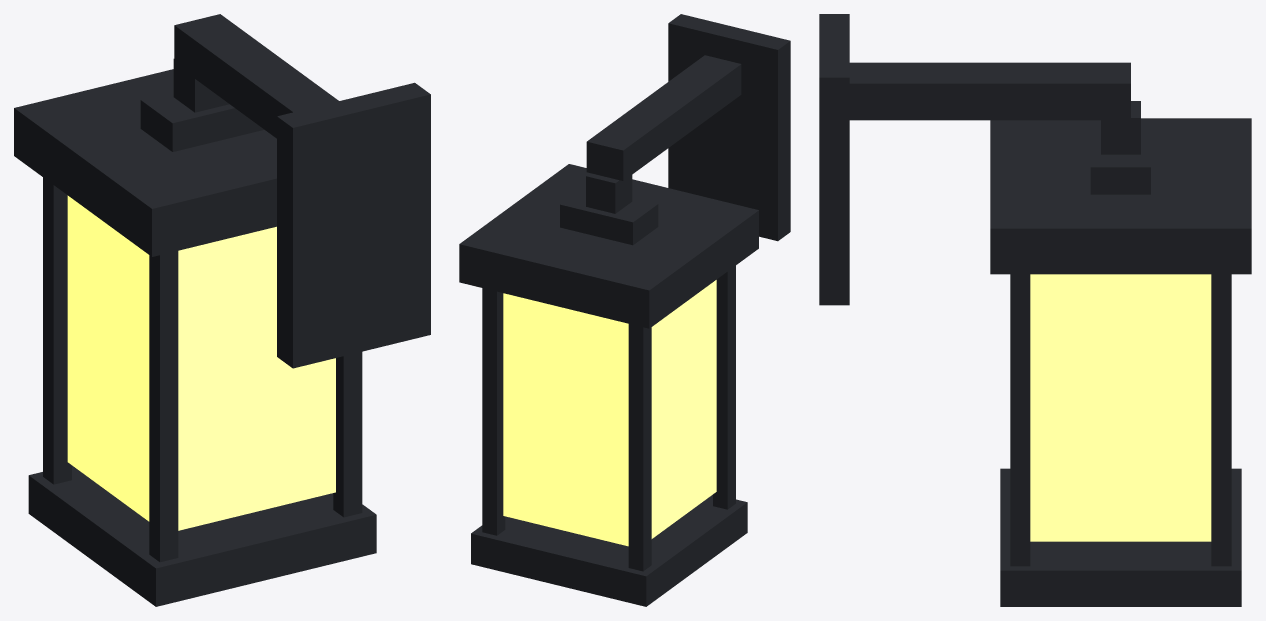
Rendered from tv-wall-lantern.glb.
3 renders of one model, left to right at view 1: azimuth 30°, elevation 25°; view 2: azimuth 150°, elevation 25°; view 3: azimuth 270°, elevation 25°, orthographic. The views are drawn at different scales.
Visible parts, largest first — view 1: box-prop; view 2: box-prop; view 3: box-prop.
Boxes of the visible parts, x1,y1,x2,y2 form: box-prop: (14, 14, 430, 606); box-prop: (459, 14, 790, 606); box-prop: (819, 14, 1251, 606).
Bounding box in the file's own units: 0.52 × 1.12 × 0.86.
